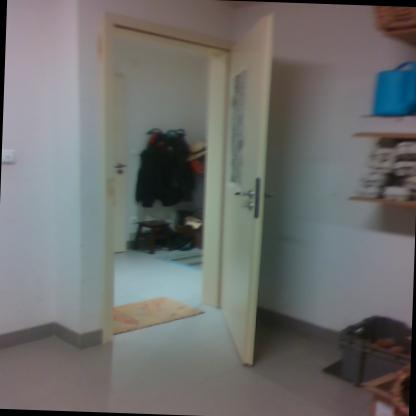semi: (82, 13, 302, 347)
